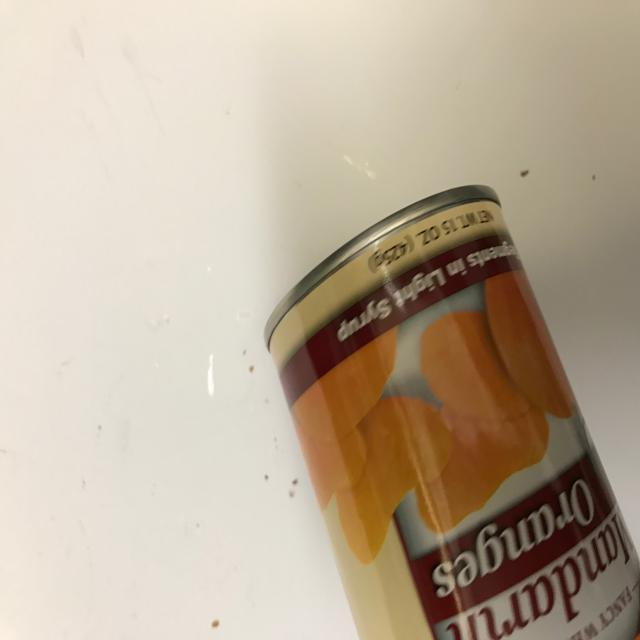metal: (263, 185, 640, 640)
